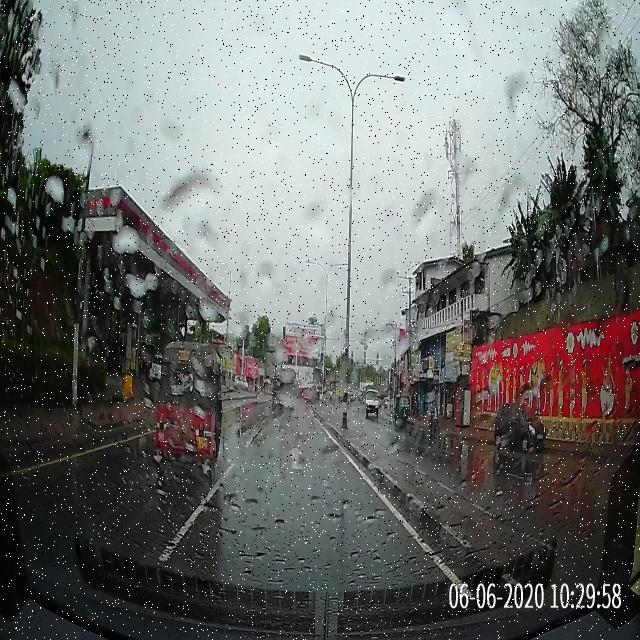forward: (212, 439, 380, 487)
